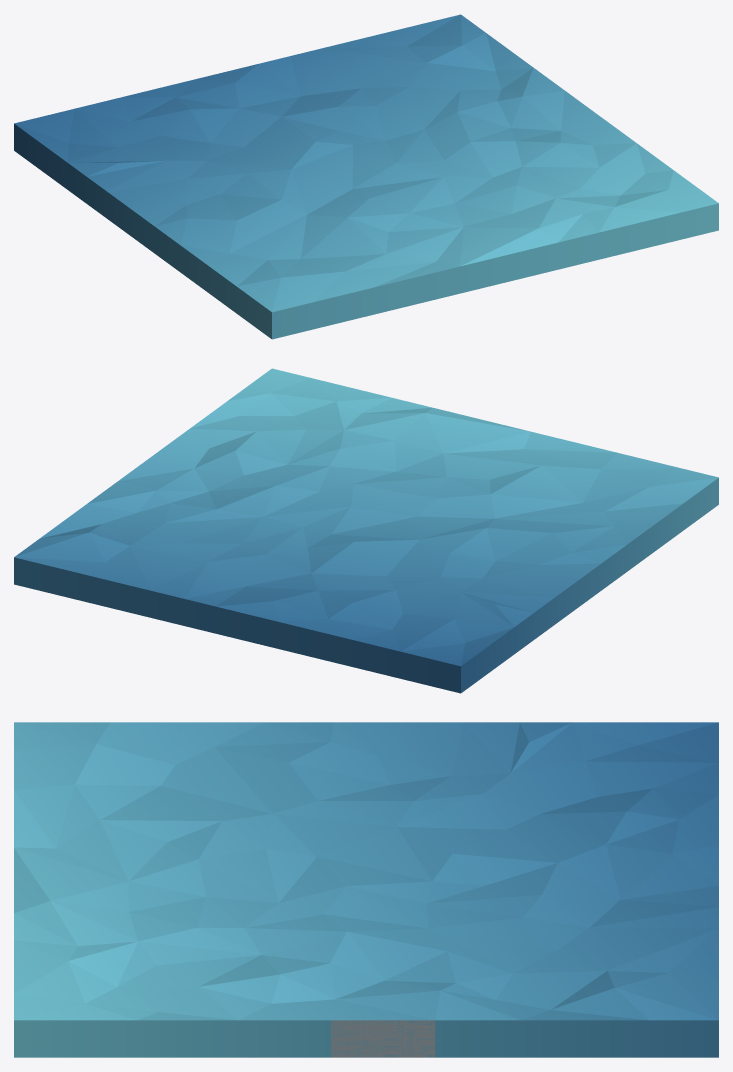
Rendered from water location camping forest.fbx.
The picture shows the model from 3 angles, top to bottom: view 1: azimuth 30°, elevation 25°; view 2: azimuth 150°, elevation 25°; view 3: azimuth 270°, elevation 25°; orthographic projection. The views are drawn at different scales.
Visible parts, largest first — view 1: water location camping forest; view 2: water location camping forest; view 3: water location camping forest.
Boxes of the visible parts, box(x1,y1,x2,y2) form: water location camping forest: box(14, 14, 718, 339); water location camping forest: box(14, 368, 718, 693); water location camping forest: box(14, 722, 718, 1057).
Bounding box in the file's own units: 4400 × 311 × 4400.
